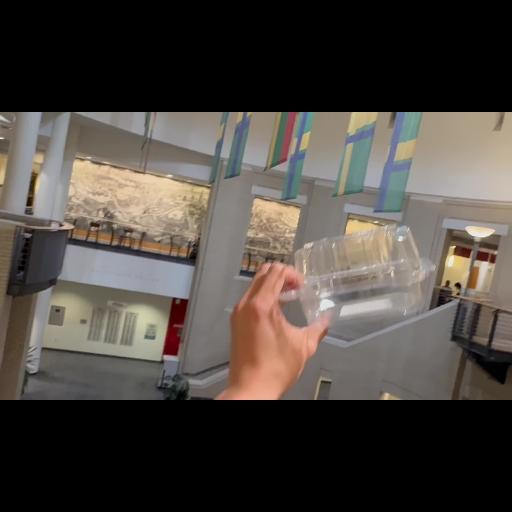small_plastic_container: (265, 222, 441, 336)
